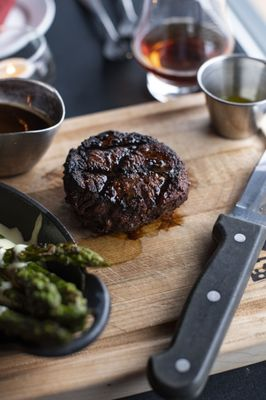sandwich: (147, 149, 266, 398)
sushi: (0, 77, 66, 179), (197, 54, 266, 140)
